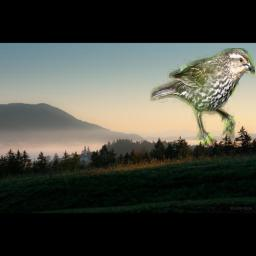Sparrow: (150, 48, 255, 146)
